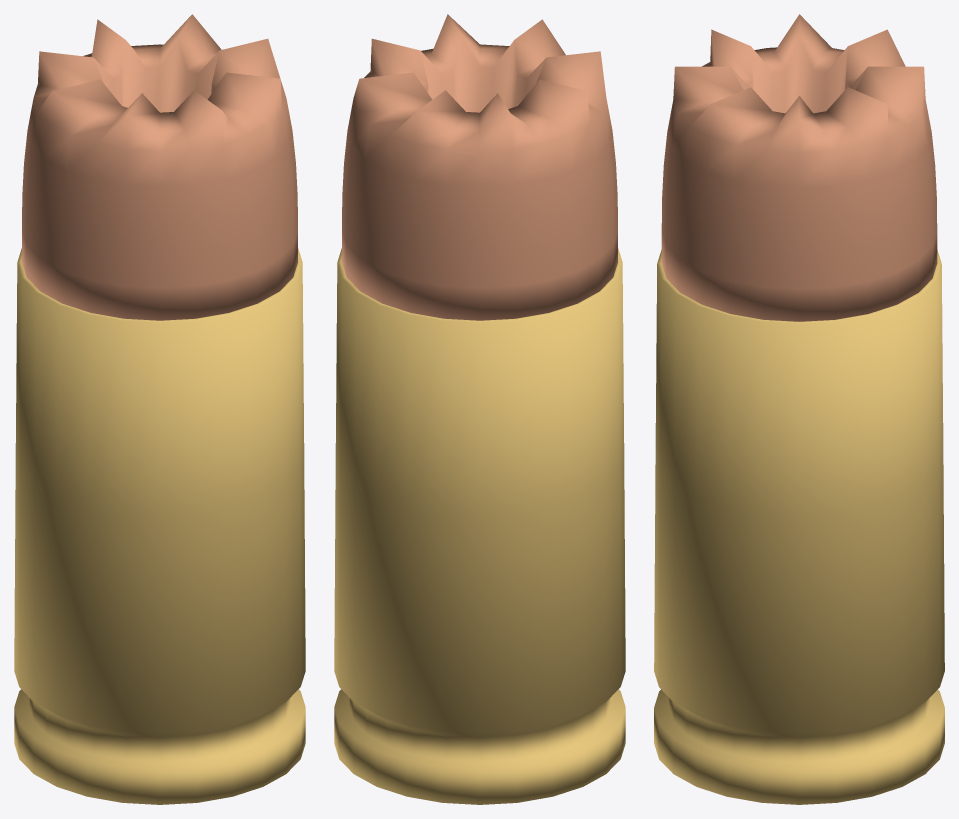
3 views of the same model, side by side, from view 1: azimuth 30°, elevation 25°; view 2: azimuth 150°, elevation 25°; view 3: azimuth 270°, elevation 25° (orthographic).
Visible parts, largest first — view 1: vaina, bala_flor; view 2: vaina, bala_flor; view 3: vaina, bala_flor.
Part boxes in pixels (x1,y1,x2,y2): vaina: (14, 248, 305, 804); bala_flor: (22, 14, 297, 320); vaina: (334, 248, 625, 804); bala_flor: (342, 14, 617, 320); vaina: (654, 250, 944, 804); bala_flor: (661, 14, 937, 321).
Size of the model in its own units: 0.0095 by 0.0244 by 0.0095.
